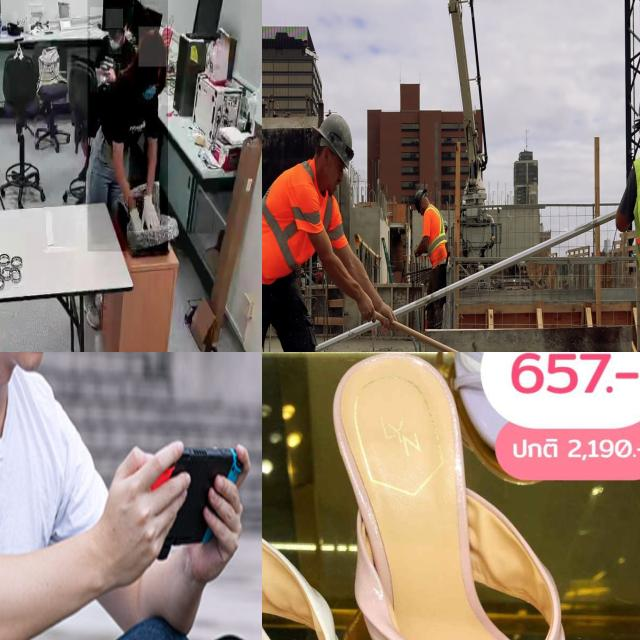Sandals: (304, 352, 640, 640), (262, 352, 420, 640)
face_mask: (139, 71, 158, 106), (108, 29, 122, 54)
hand_glove: (138, 185, 160, 238), (128, 196, 142, 232)
hand_noglove: (100, 61, 116, 83)
head_helmet: (312, 111, 355, 172), (632, 82, 640, 121)
head_nohelmet: (138, 27, 168, 68), (105, 9, 124, 29)
person: (0, 352, 258, 640), (262, 109, 378, 352), (87, 0, 168, 252), (411, 188, 448, 352), (90, 7, 134, 92)
vest: (262, 159, 349, 299), (422, 204, 448, 266)
